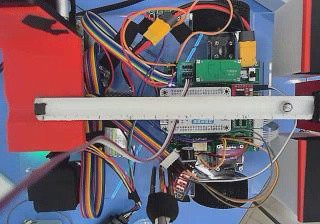ironball: (282, 100, 293, 113)
